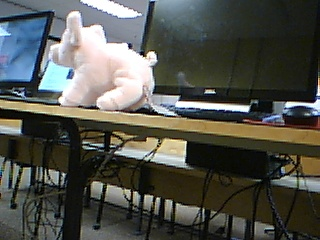piggy: (48, 10, 160, 114)
